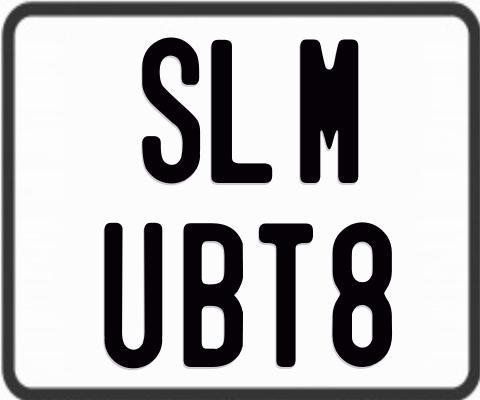8: (330, 219, 393, 369)
B: (183, 222, 247, 369)
L: (209, 37, 272, 183)
M: (297, 37, 361, 185)
S: (142, 34, 204, 185)
T: (259, 222, 313, 368)
U: (102, 221, 161, 372)
